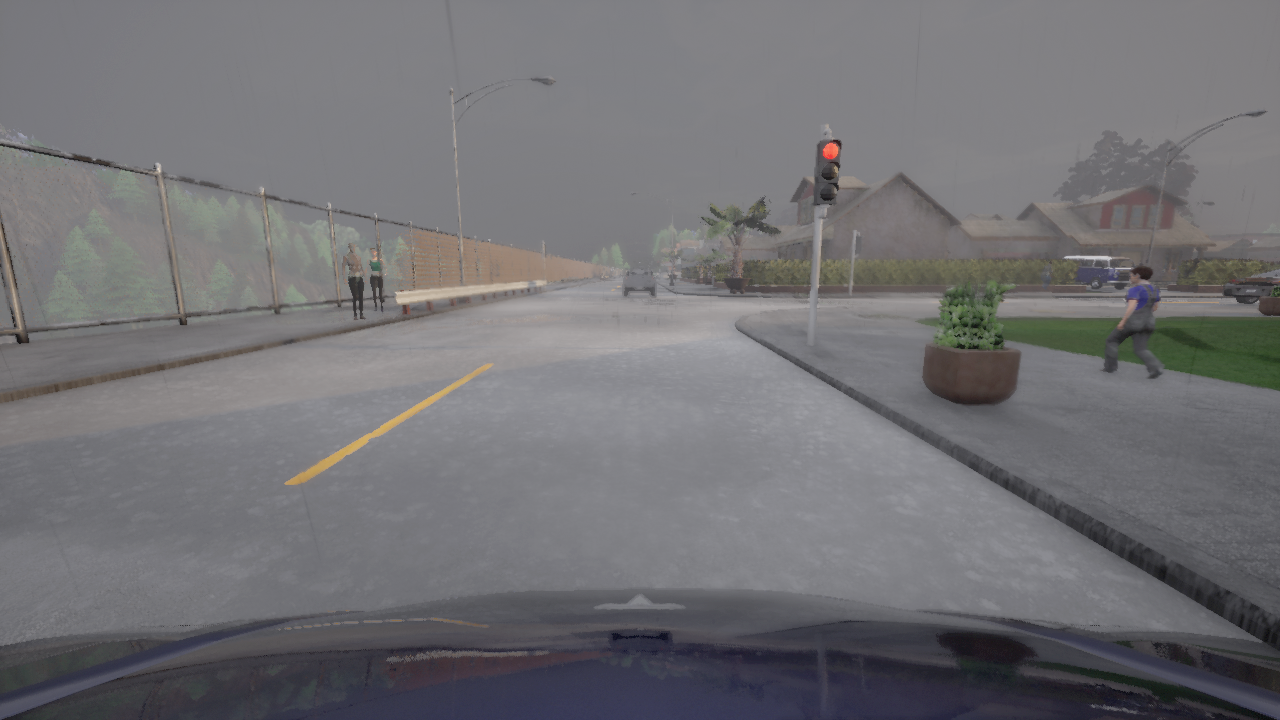cyclist: (0, 588, 1279, 719), (1062, 255, 1135, 288), (1224, 268, 1279, 304), (623, 267, 656, 296)
pedestrian: (1098, 265, 1164, 379), (341, 241, 368, 319), (365, 247, 387, 311), (1040, 260, 1053, 292)
